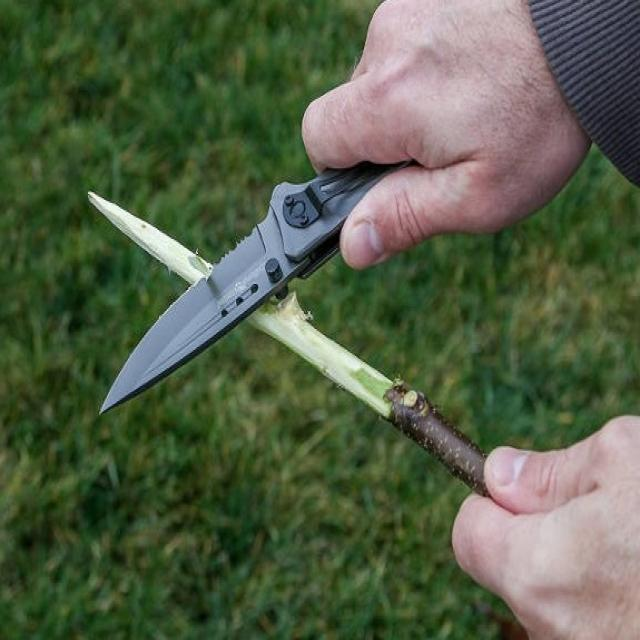knife: (94, 176, 336, 424)
